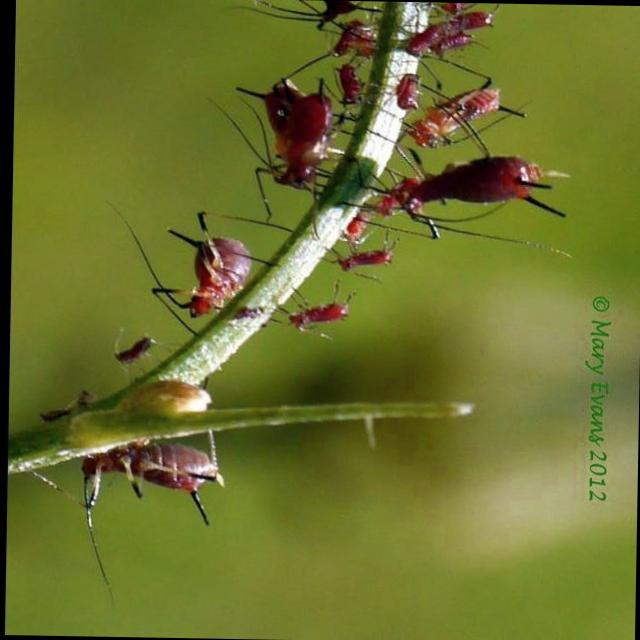aphid: (145, 3, 561, 344), (363, 150, 555, 248), (244, 70, 353, 216), (68, 434, 225, 525), (158, 234, 258, 326), (28, 386, 92, 426), (106, 332, 154, 381)
